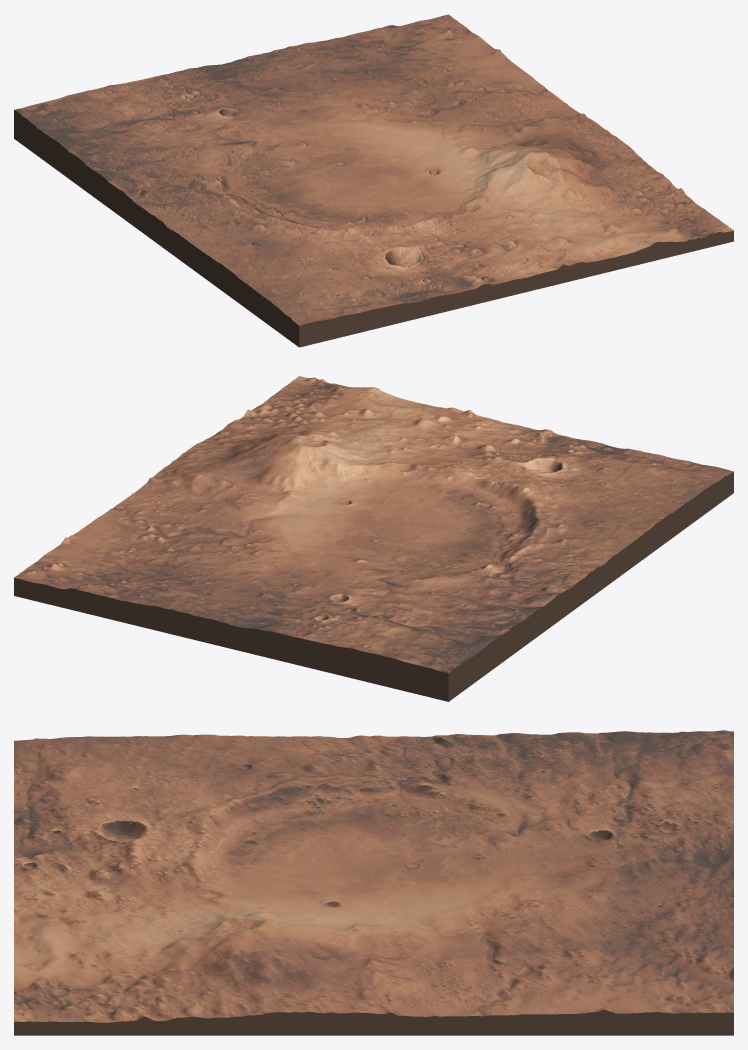
Rendered from jezero-crater-3d.glb.
3 views of the same model, one above another, from view 1: azimuth 30°, elevation 25°; view 2: azimuth 150°, elevation 25°; view 3: azimuth 270°, elevation 25° (orthographic). The views are drawn at different scales.
Visible parts, largest first — view 1: Jezero; view 2: Jezero; view 3: Jezero.
Part boxes in pixels (box(x1,y1,x2,y2)): Jezero: box(14, 14, 733, 347); Jezero: box(14, 376, 733, 701); Jezero: box(14, 730, 733, 1035).
Size of the model in its own units: 88712 by 7864 by 100864.
Materials: 2 (1 with a texture image).
